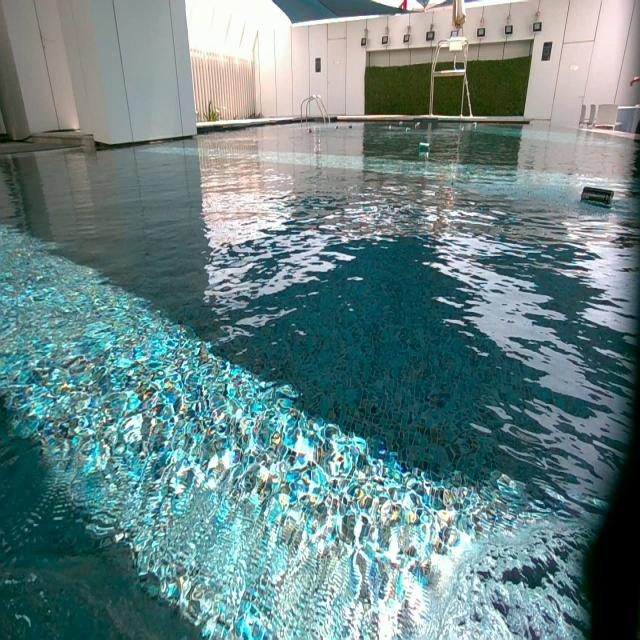Cans: (583, 187, 614, 209), (418, 142, 430, 155), (307, 129, 315, 136), (415, 120, 421, 128), (472, 122, 478, 128)
